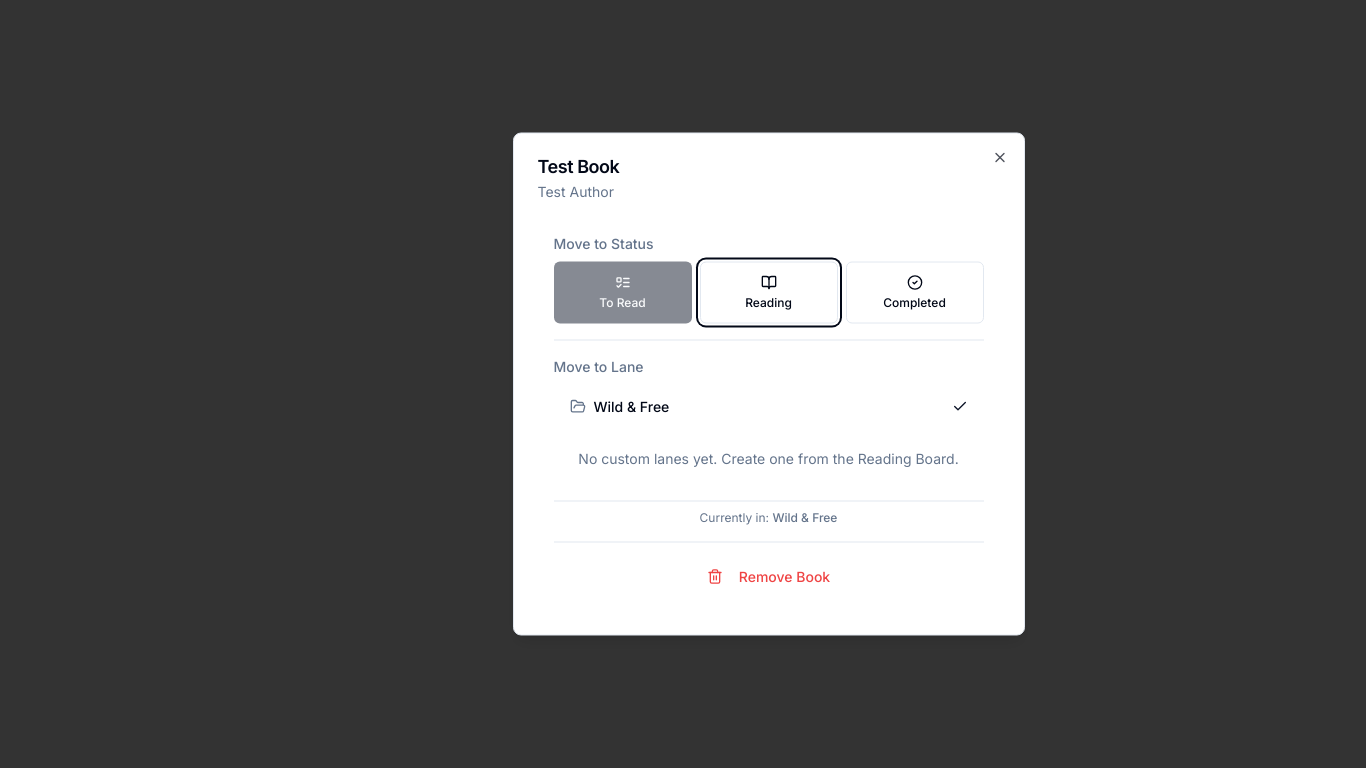
BookActionDrawer › Confirmation dialog › shows confirmation dialog when Remove Book is clicked
The width and height of the screenshot is (1366, 768).
What coordinates should you click on to do the following:
click the button "Remove Book"
I would click on:
 (768, 576)
Its box is [554,558,984,594].
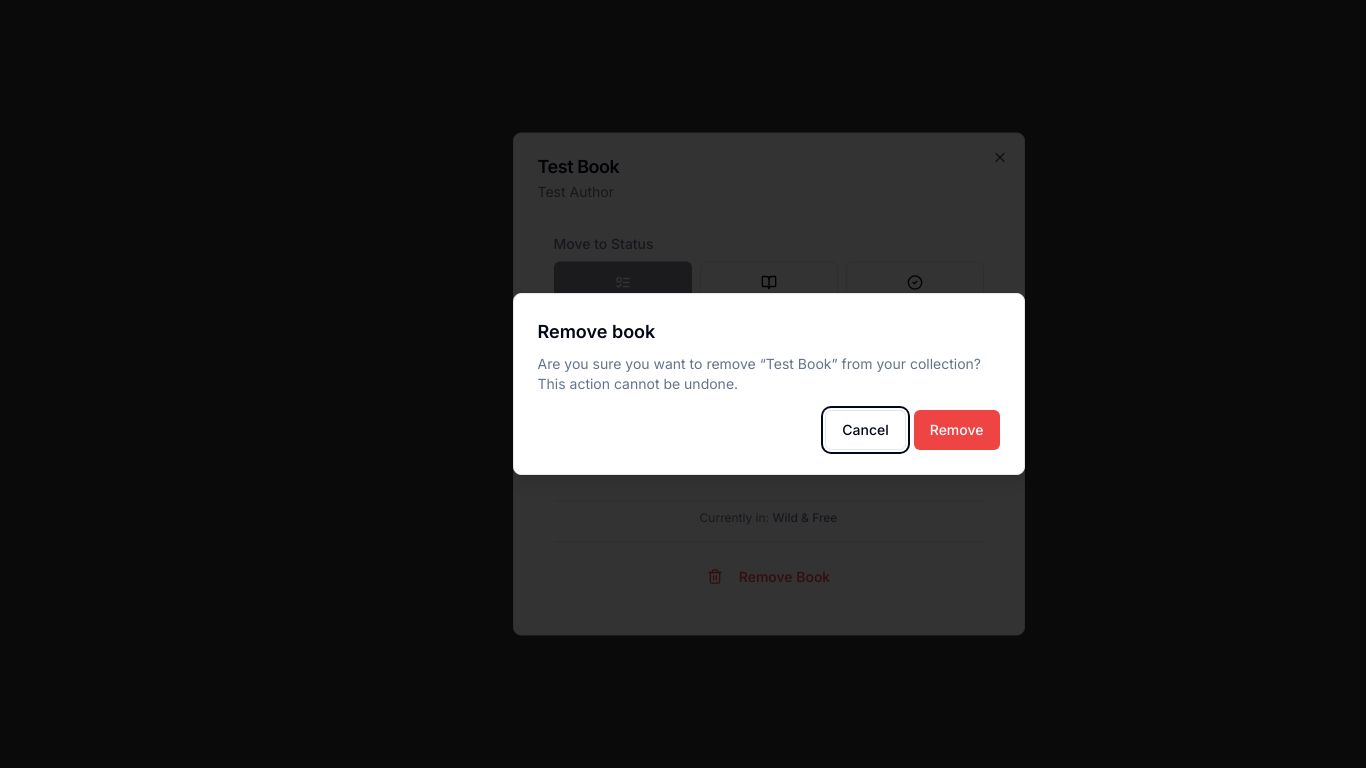
expect the dialog that starts with "Remove book" is shown: met, box [512,293,1024,475]
expect the heading "Remove book" is shown: met, box [538,321,655,342]
